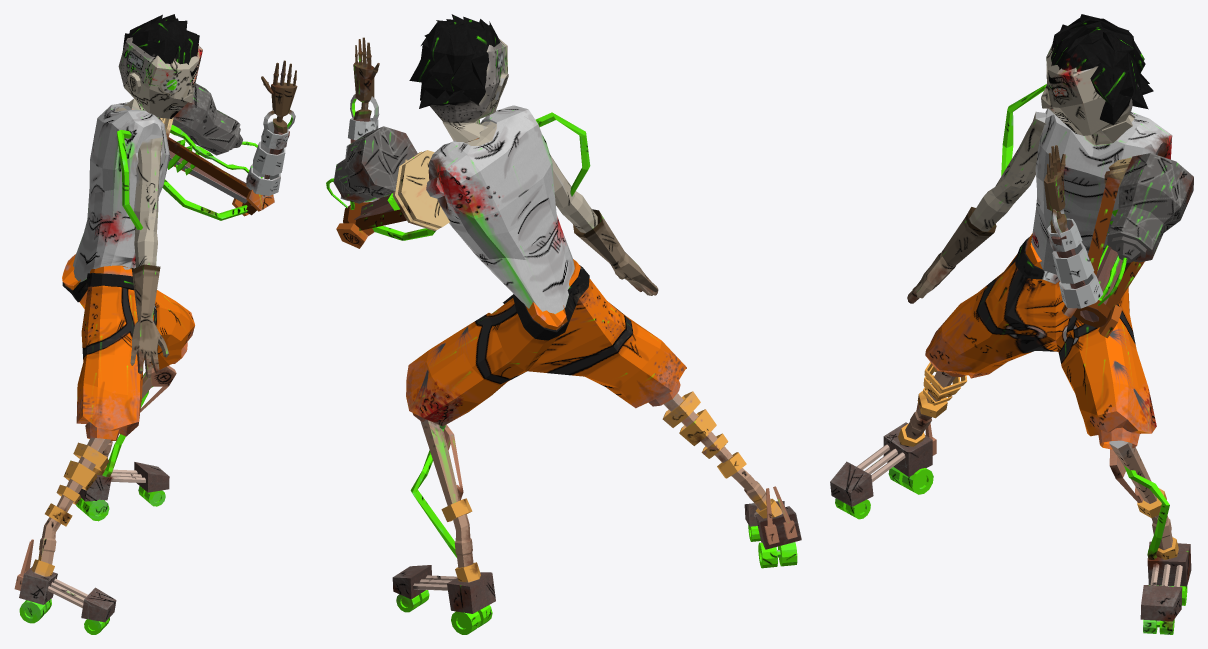
The model's file is CyborgFINALAnimation_000048.obj.
3 views of the same model, side by side, from view 1: azimuth 30°, elevation 25°; view 2: azimuth 150°, elevation 25°; view 3: azimuth 270°, elevation 25° (orthographic). The views are drawn at different scales.
Parts seen in each view (by area): view 1: CyborgMesh_Cube.002; view 2: CyborgMesh_Cube.002; view 3: CyborgMesh_Cube.002.
Part boxes in pixels (bbox=[...]): CyborgMesh_Cube.002: bbox=[14, 14, 297, 634]; CyborgMesh_Cube.002: bbox=[326, 14, 801, 634]; CyborgMesh_Cube.002: bbox=[830, 14, 1193, 634].
Size of the model in its own units: 6.02 by 8.66 by 4.7.
